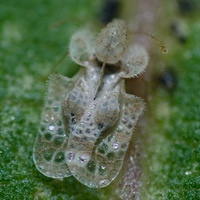insect: (33, 19, 148, 187)
